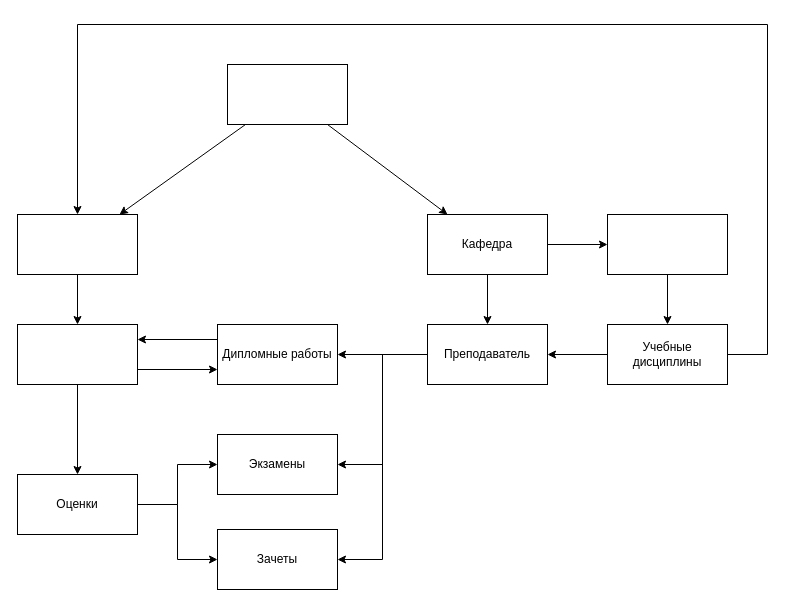
This 793x607 diagram has some shape labels left out. The shapes that lost their labels are listed below. From the top down, each one's box as (x1, y1, x2, y2) in pixels, then its label:
(226, 64, 348, 124): Факультет
(16, 214, 138, 274): Группа
(606, 214, 728, 274): Учебный план
(16, 324, 138, 384): Студент
